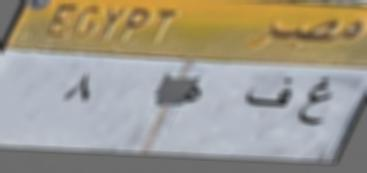8: (62, 67, 94, 110)
faa: (244, 74, 293, 110)
ghayn: (298, 74, 332, 130)
haa: (177, 80, 207, 110)
